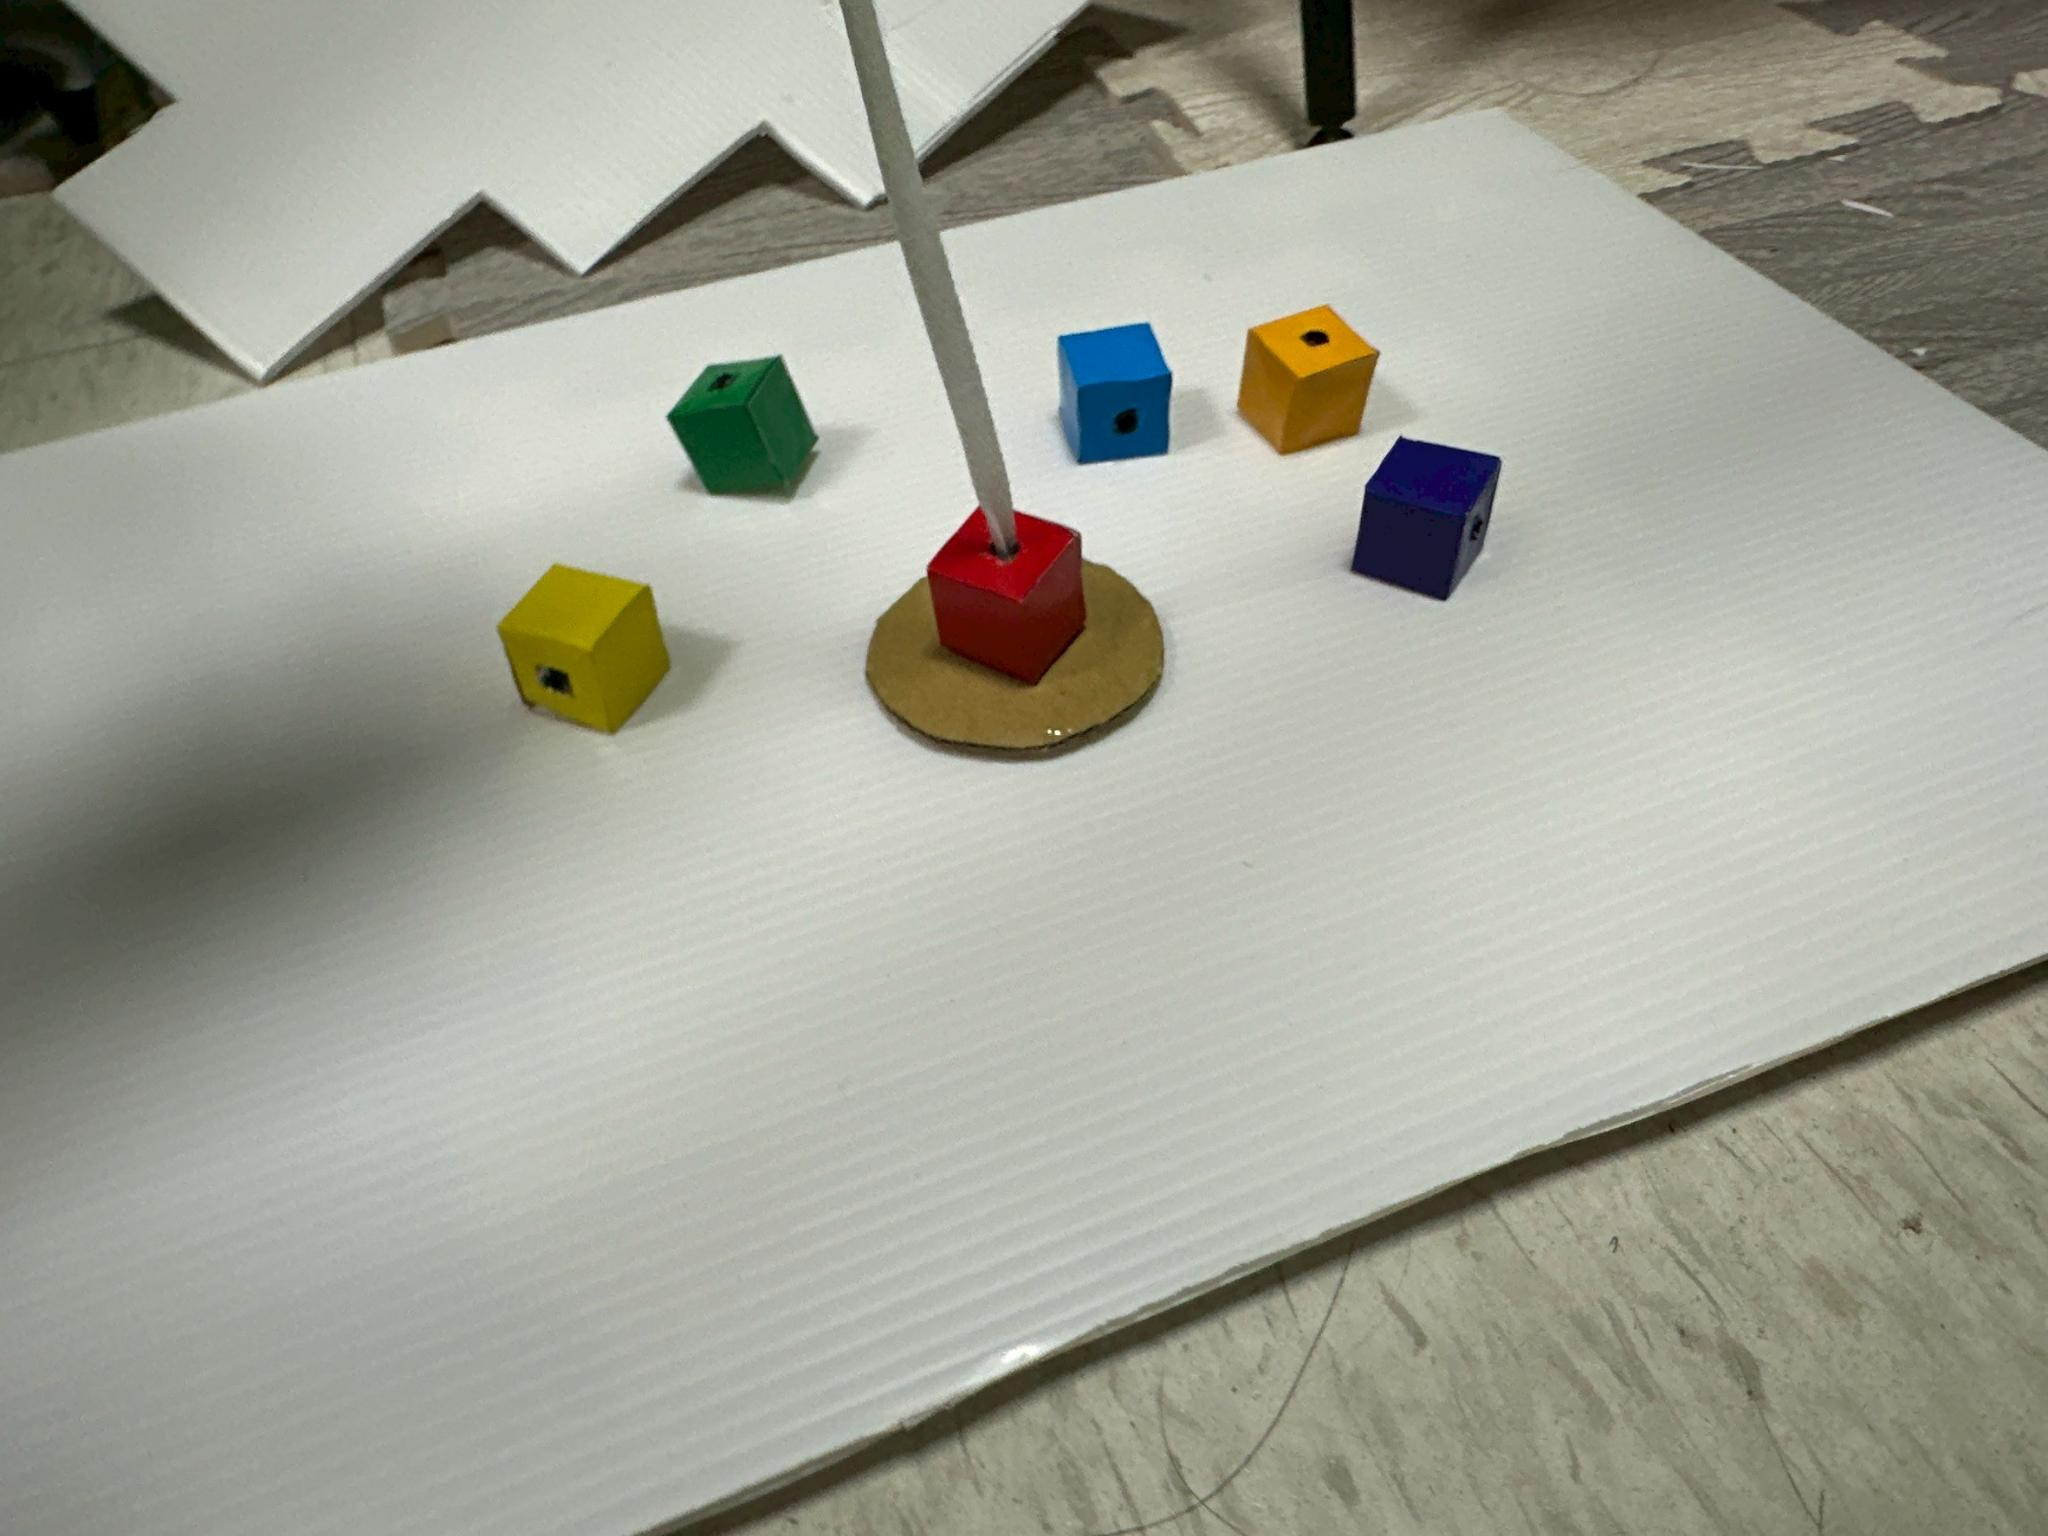base: (498, 565, 669, 734), (927, 508, 1085, 686), (1351, 437, 1500, 600), (1237, 307, 1379, 453), (668, 357, 818, 495), (1058, 323, 1171, 463)
